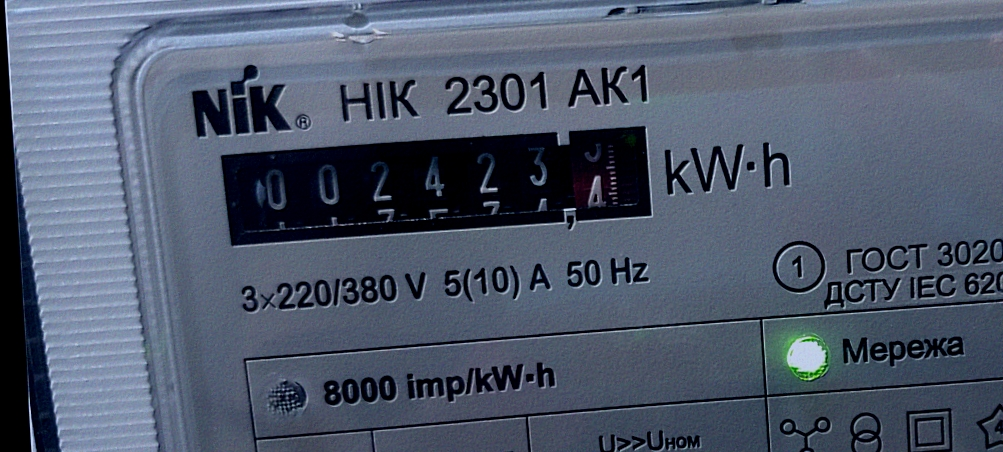0: (262, 164, 291, 214), (315, 161, 343, 207)
2: (367, 157, 395, 204), (474, 150, 500, 196)
3: (525, 143, 551, 189), (582, 140, 605, 164)
4: (421, 153, 446, 200), (582, 171, 609, 210)
screen: (210, 114, 666, 259)
